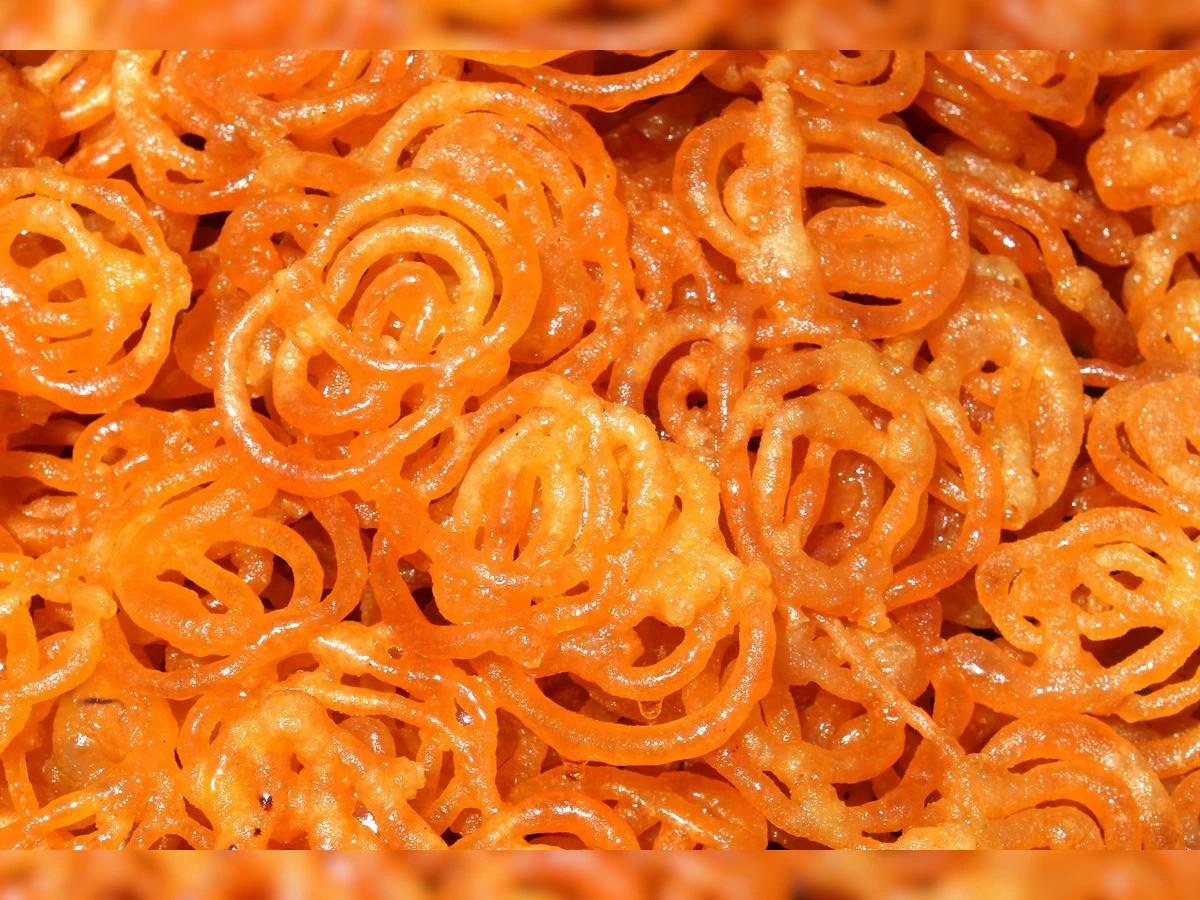Jalebi: (0, 50, 1198, 852)
